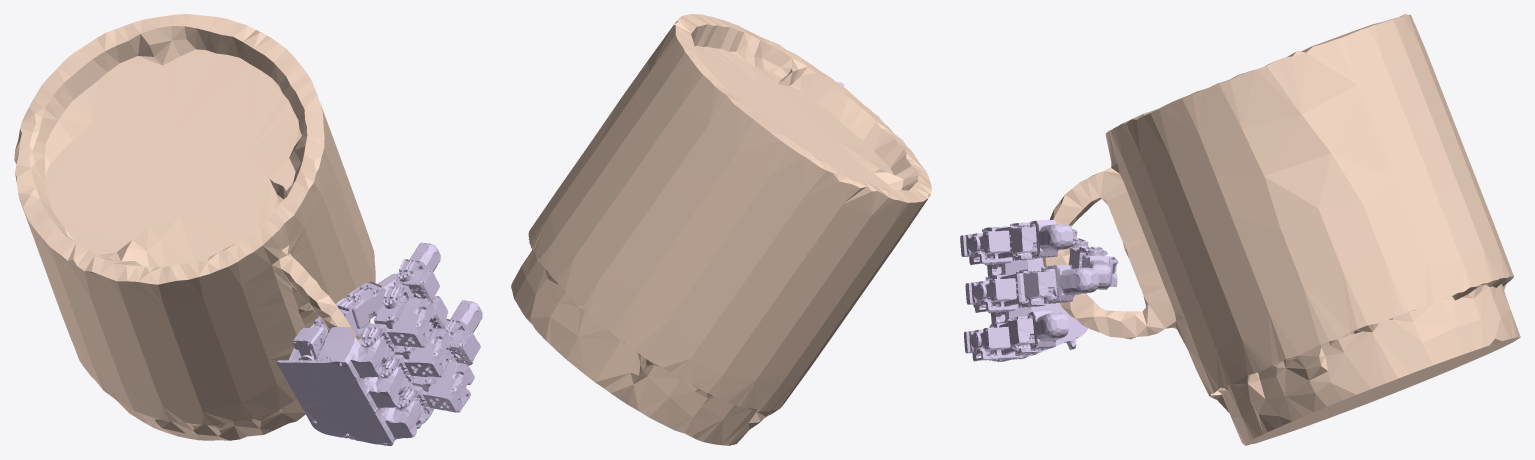
File: 9e5aaf269bf343-final.glb
The picture shows the model from 3 angles, left to right: view 1: azimuth 30°, elevation 25°; view 2: azimuth 150°, elevation 25°; view 3: azimuth 270°, elevation 25°; orthographic projection. The views are drawn at different scales.
Visible parts, largest first — view 1: world, LEAP_hand; view 2: world; view 3: world, LEAP_hand.
Part boxes in pixels (bbox=[...]): world: bbox=[14, 14, 375, 440]; LEAP_hand: bbox=[277, 242, 482, 445]; world: bbox=[511, 14, 931, 445]; world: bbox=[1042, 14, 1520, 445]; LEAP_hand: bbox=[960, 219, 1118, 361].
Bounding box in the file's own units: 0.4039 × 0.4294 × 0.5284.
